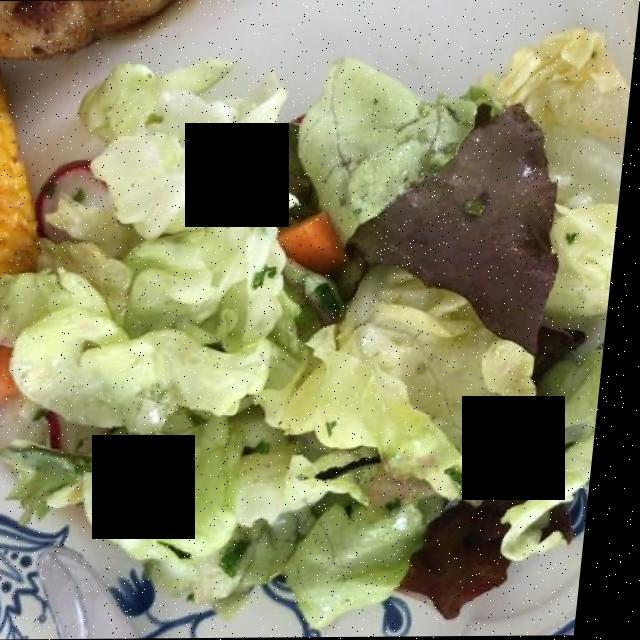salad: (0, 47, 615, 617)
